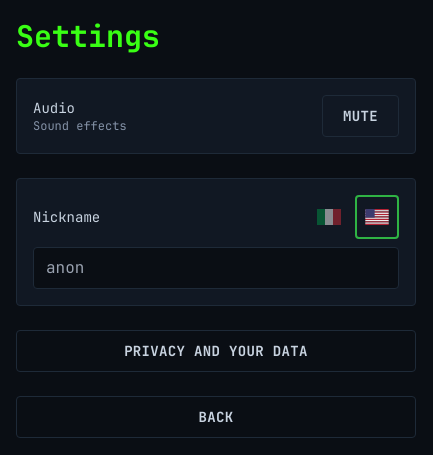
LanguageSwitch › switches back to Italian
Step 1. Click the button named "Italiano" → x=329, y=217, box 307,195 -> 351,239
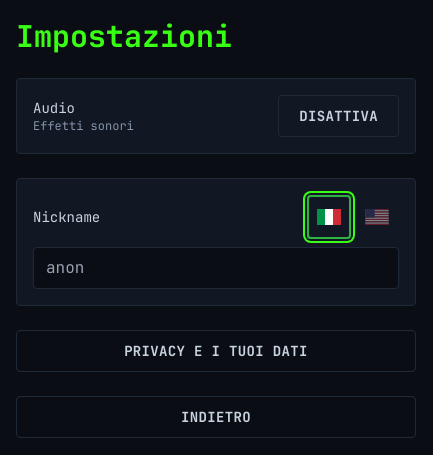
Now the heading "Impostazioni" is shown, box 16,16 -> 232,56
